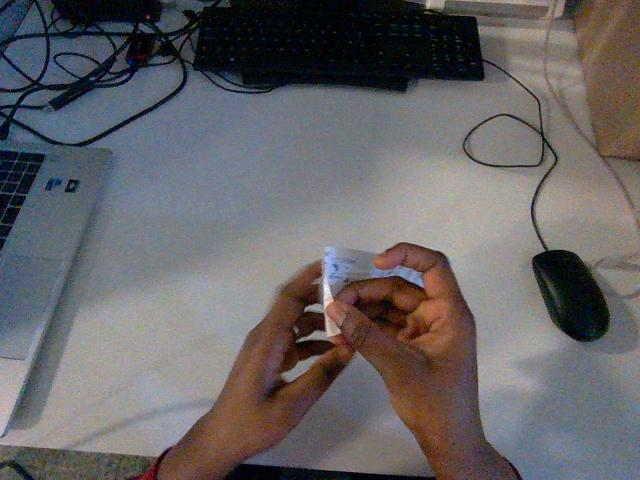syringe: (320, 247, 423, 308), (326, 316, 340, 338)
